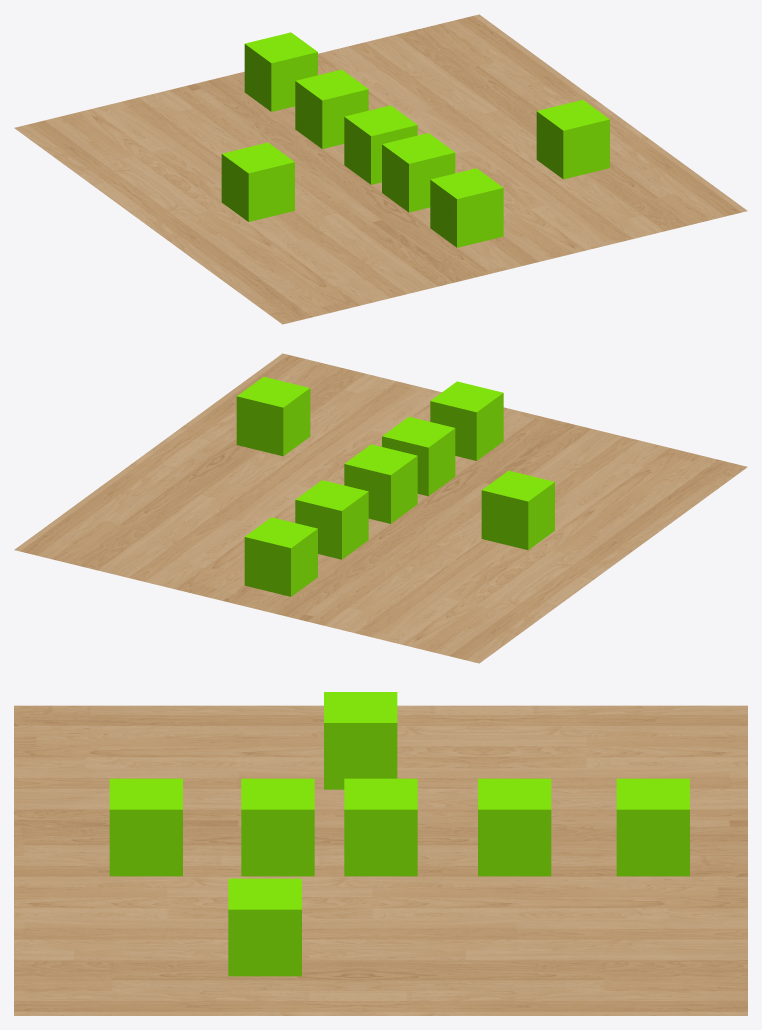
3 renders of one model, top to bottom at view 1: azimuth 30°, elevation 25°; view 2: azimuth 150°, elevation 25°; view 3: azimuth 270°, elevation 25°, orthographic. The views are drawn at different scales.
Parts seen in each view (by area): view 1: 3DGeom~1, 3DGeom~5 (×3), 3DGeom~5~1, 3DGeom~5~1~2~4, 3DGeom~5~1~2~3, 3DGeom~5~1~2; view 2: 3DGeom~1, 3DGeom~5 (×3), 3DGeom~5~1~2~4, 3DGeom~5~1~2~3, 3DGeom~5~1~2, 3DGeom~5~1; view 3: 3DGeom~1, 3DGeom~5 (×3), 3DGeom~5~1~2, 3DGeom~5~1, 3DGeom~5~1~2~3, 3DGeom~5~1~2~4.
Boxes of the visible parts, x1=… form: 3DGeom~1: x1=14, y1=14, x2=747, y2=324; 3DGeom~5 (×3): x1=221, y1=100, x2=609, y2=221; 3DGeom~5~1: x1=430, y1=168, x2=503, y2=247; 3DGeom~5~1~2~4: x1=244, y1=32, x2=317, y2=111; 3DGeom~5~1~2~3: x1=295, y1=69, x2=368, y2=148; 3DGeom~5~1~2: x1=344, y1=105, x2=417, y2=184; 3DGeom~1: x1=14, y1=353, x2=747, y2=663; 3DGeom~5 (×3): x1=236, y1=376, x2=554, y2=549; 3DGeom~5~1~2~4: x1=244, y1=517, x2=317, y2=596; 3DGeom~5~1~2~3: x1=295, y1=480, x2=368, y2=559; 3DGeom~5~1~2: x1=344, y1=444, x2=417, y2=523; 3DGeom~5~1: x1=430, y1=381, x2=503, y2=460; 3DGeom~1: x1=14, y1=705, x2=747, y2=1015; 3DGeom~5 (×3): x1=228, y1=692, x2=397, y2=976; 3DGeom~5~1~2: x1=344, y1=778, x2=417, y2=876; 3DGeom~5~1: x1=109, y1=778, x2=182, y2=876; 3DGeom~5~1~2~3: x1=478, y1=778, x2=551, y2=876; 3DGeom~5~1~2~4: x1=616, y1=778, x2=689, y2=876.
Size of the model in its own units: 10 by 1 by 10.
8 materials, 1 textured.
